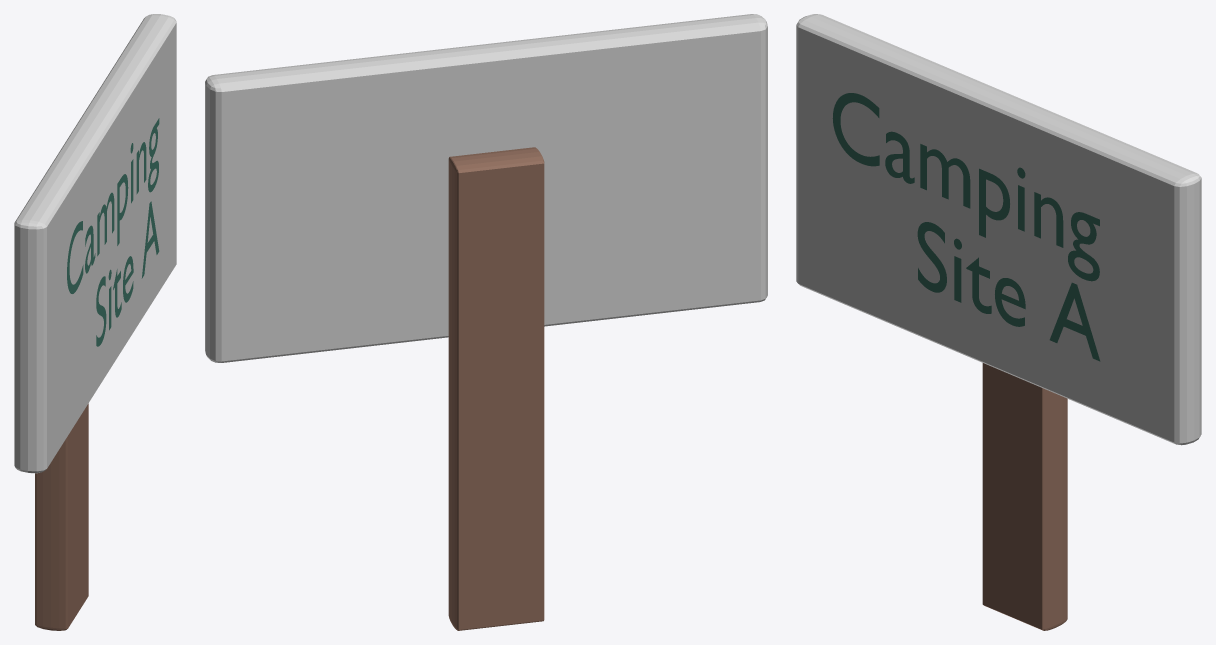
File: Camping-sign-final.glb
The picture shows the model from 3 angles, left to right: view 1: azimuth 30°, elevation 25°; view 2: azimuth 150°, elevation 25°; view 3: azimuth 270°, elevation 25°; orthographic projection. The views are drawn at different scales.
Visible parts, largest first — view 1: sign, sign pole, campingsign; view 2: sign, sign pole; view 3: sign, sign pole, campingsign.
Part boxes in pixels (x1,y1,x2,y2): sign: [14, 14, 176, 473]; sign pole: [35, 403, 88, 630]; campingsign: [67, 118, 159, 346]; sign: [205, 14, 767, 362]; sign pole: [448, 147, 544, 630]; sign: [796, 14, 1201, 445]; sign pole: [982, 363, 1067, 630]; campingsign: [832, 93, 1100, 361].
Size of the model in its own units: 0.5518 by 0.7964 by 0.5518.
